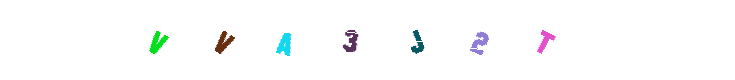2: (390, 0, 470, 80)
3: (328, 0, 408, 80)
A: (244, 0, 324, 80)
J: (377, 0, 457, 80)
T: (505, 0, 585, 80)
V: (117, 0, 197, 80), (242, 0, 322, 80)
